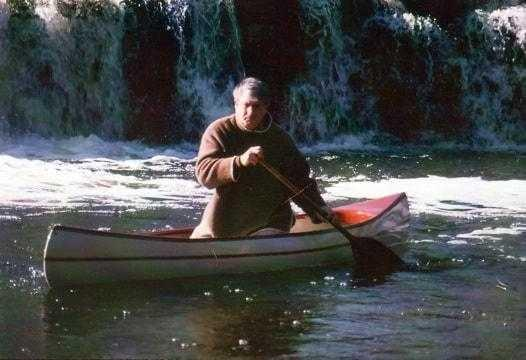kayak: (43, 191, 411, 286)
